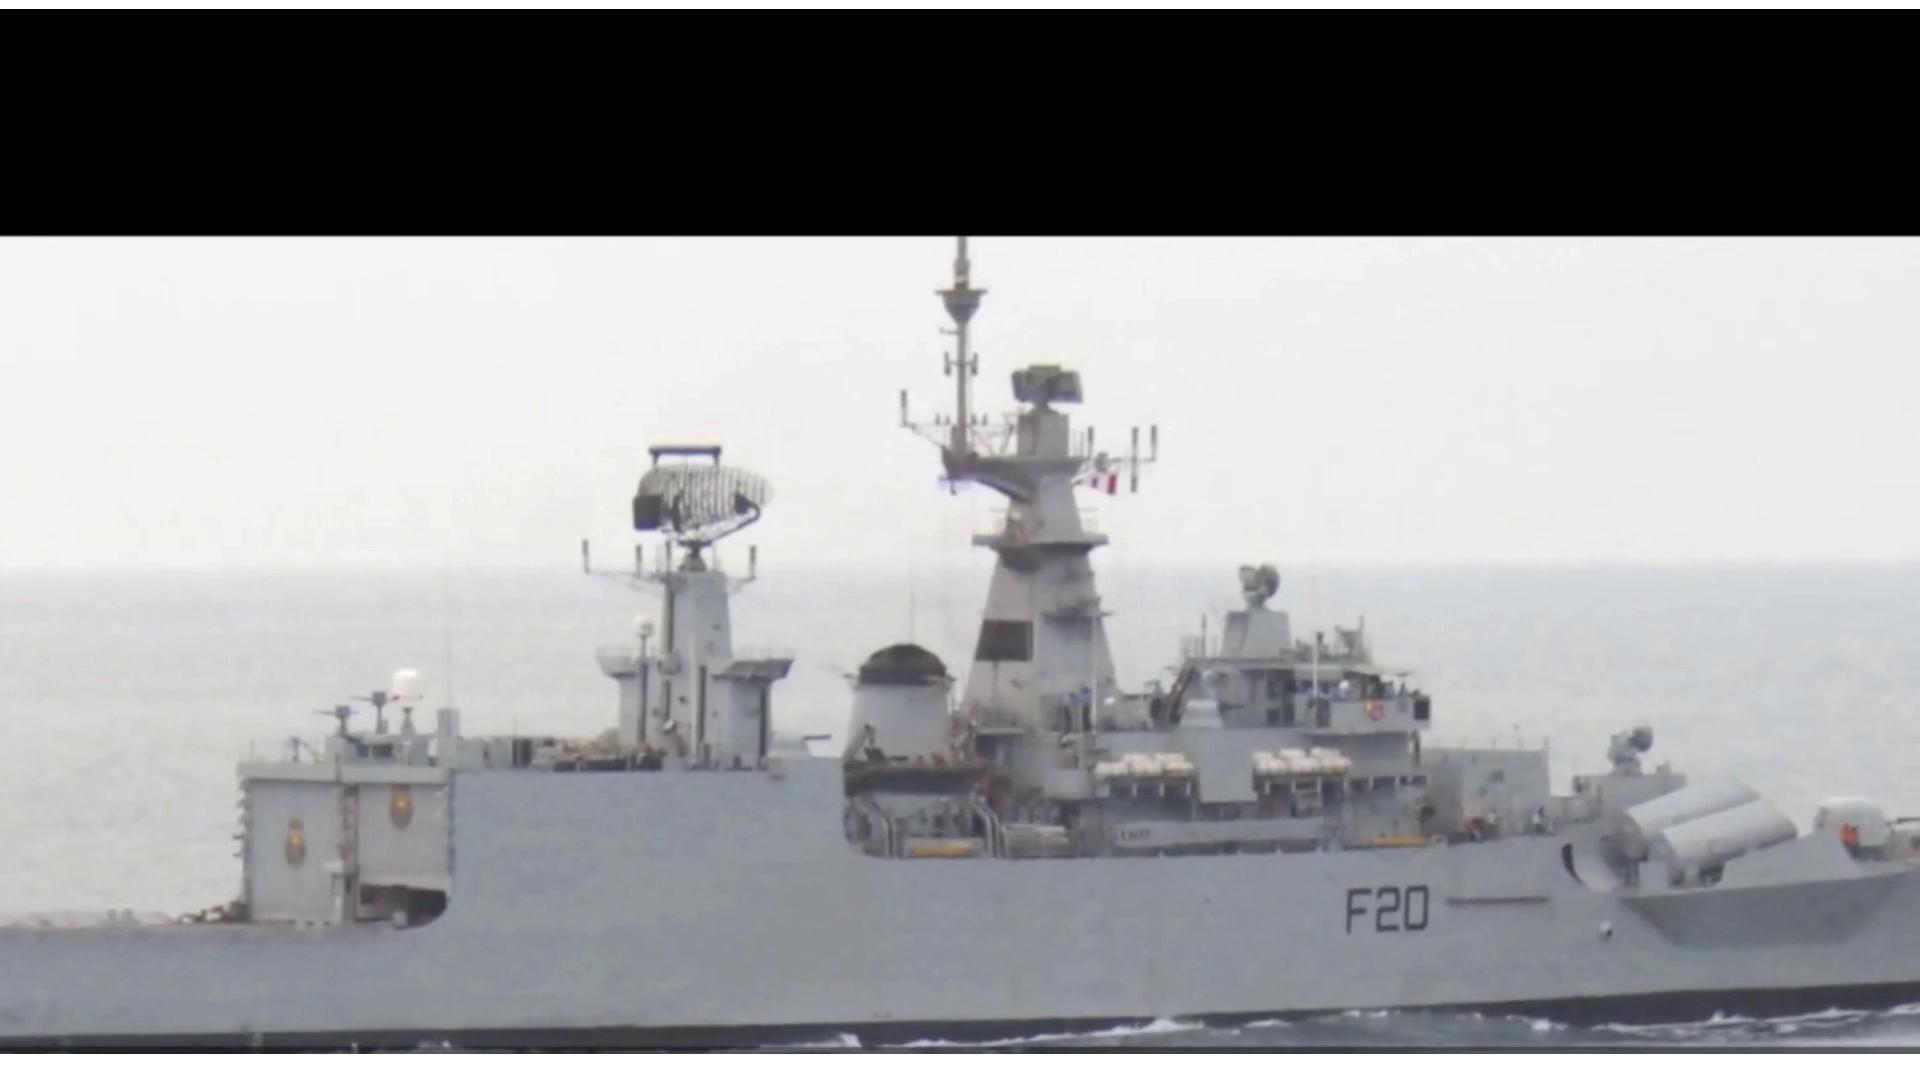OCR: (1328, 878, 1433, 947)
